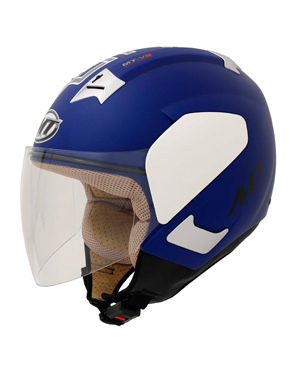helmet: (43, 48, 269, 294)
